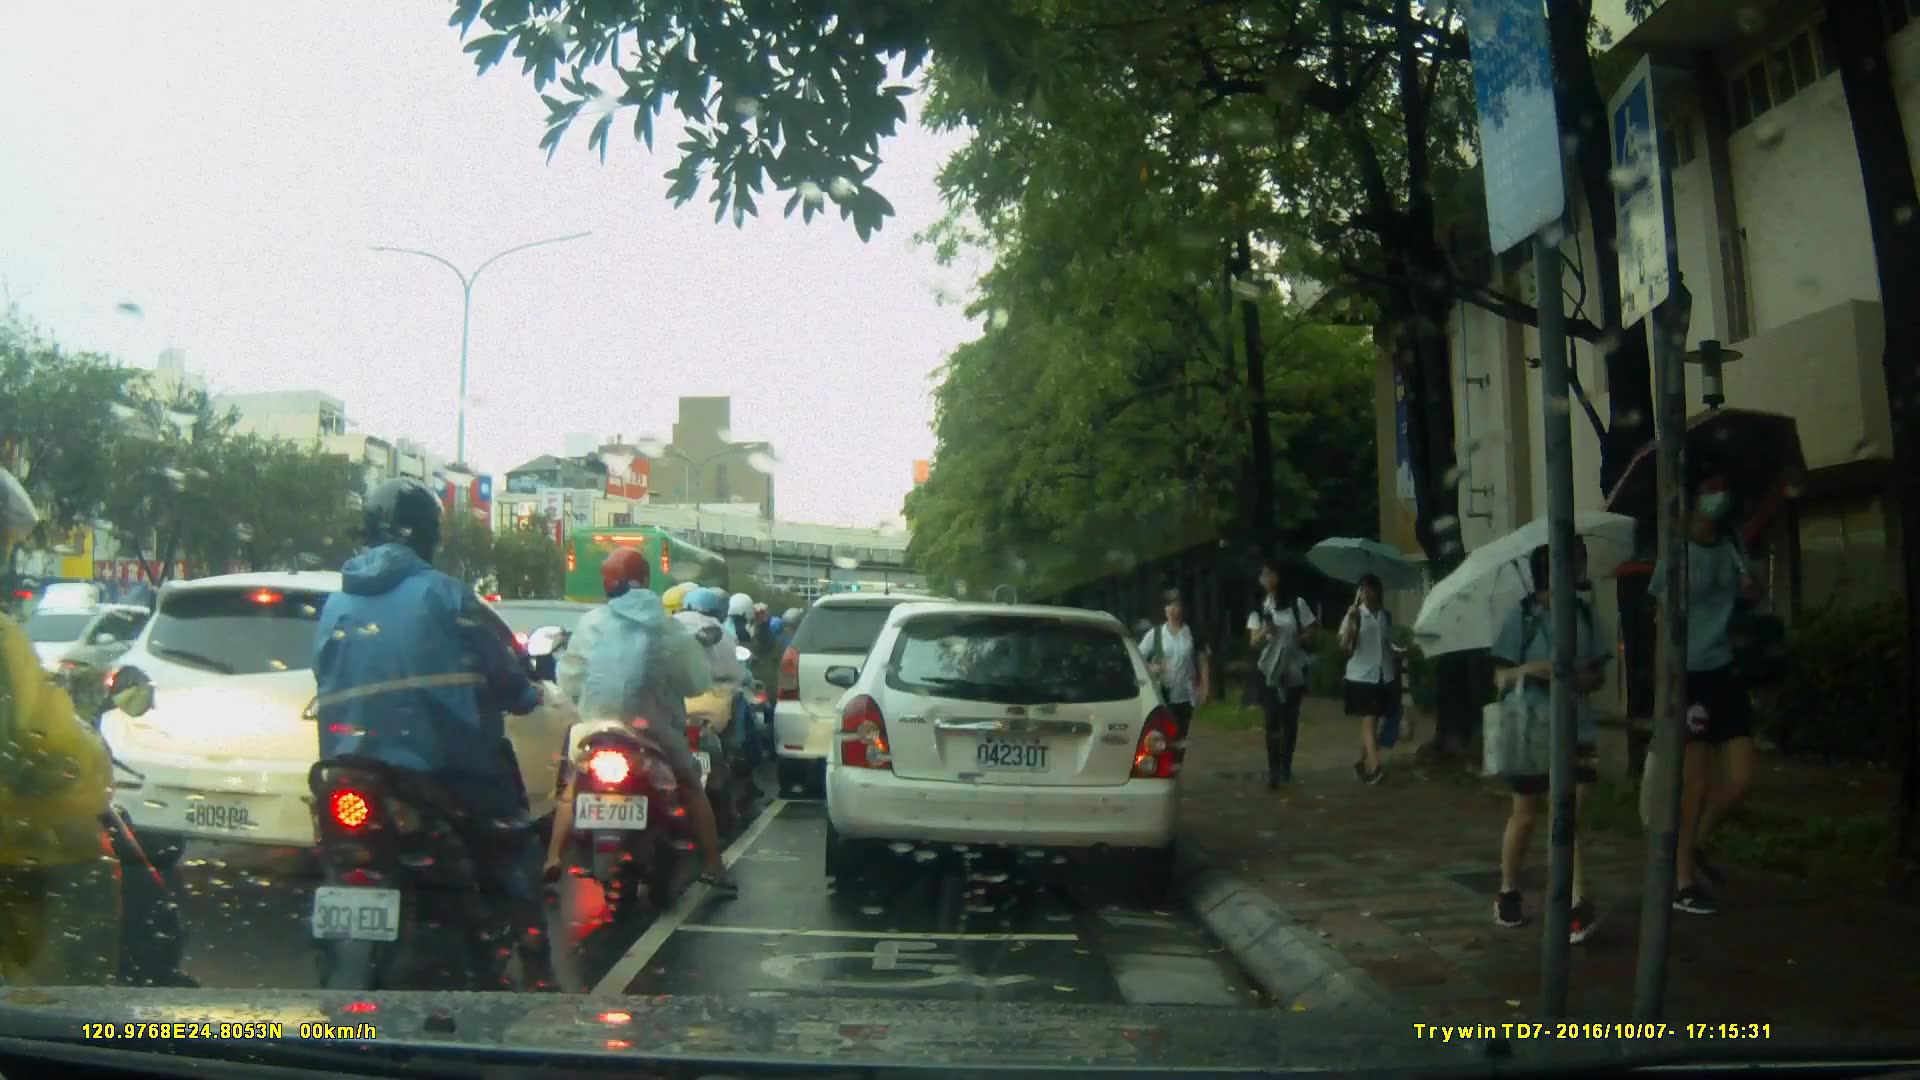pedestrian: (1484, 503, 1638, 952), (1639, 458, 1782, 928), (1328, 561, 1415, 784), (1242, 559, 1326, 787), (1129, 585, 1214, 786)
rider: (308, 476, 572, 1007), (1, 455, 181, 1080), (548, 546, 746, 920), (634, 577, 767, 836), (681, 594, 769, 785)
vehicle: (93, 569, 617, 883), (822, 604, 1187, 883), (774, 595, 995, 802), (576, 527, 753, 654), (28, 608, 170, 703)
